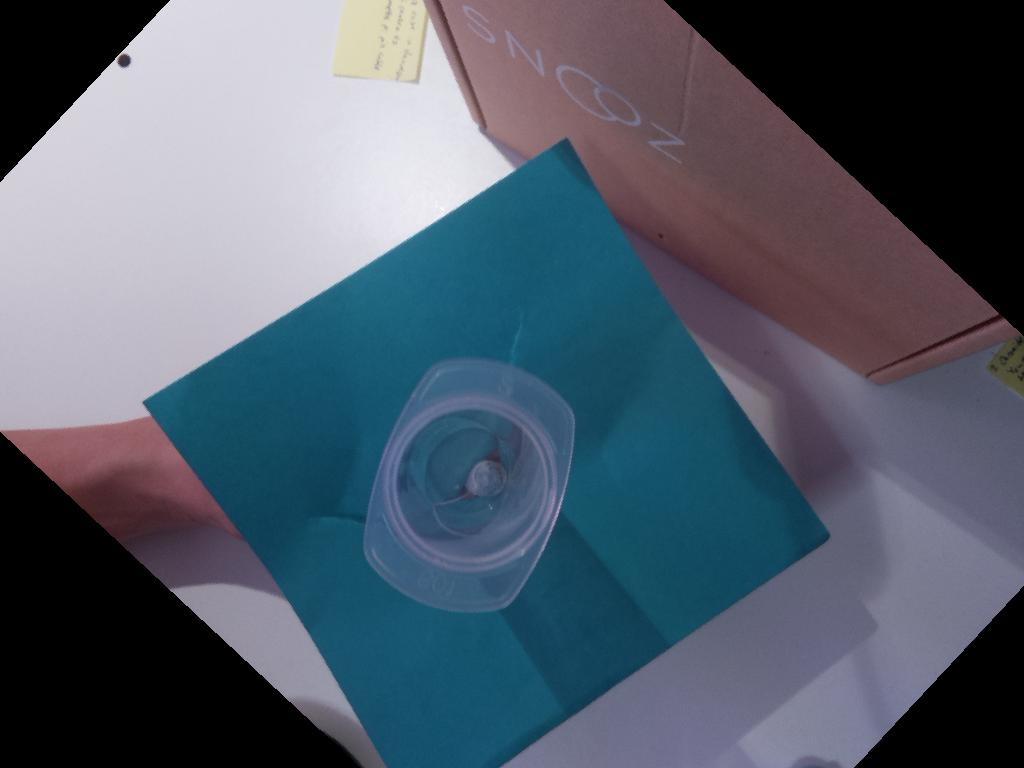clean: (360, 355, 576, 614)
